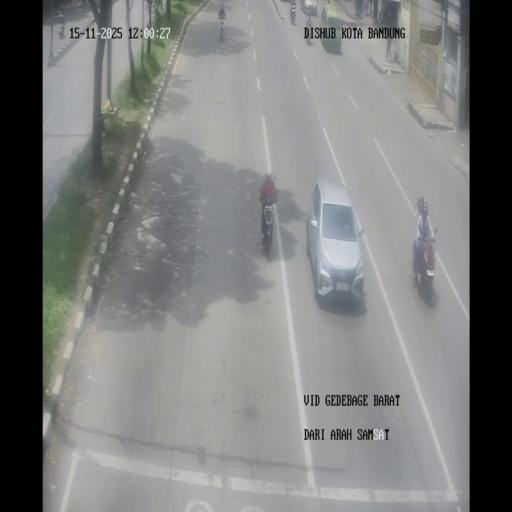car: (308, 178, 366, 305), (302, 0, 318, 16)
motorcycle: (412, 222, 437, 302), (259, 192, 277, 258), (306, 18, 314, 45), (218, 17, 226, 42), (58, 18, 65, 38), (290, 5, 296, 24), (362, 0, 368, 17), (156, 0, 163, 14), (378, 10, 383, 24)
truck: (321, 2, 342, 52)
